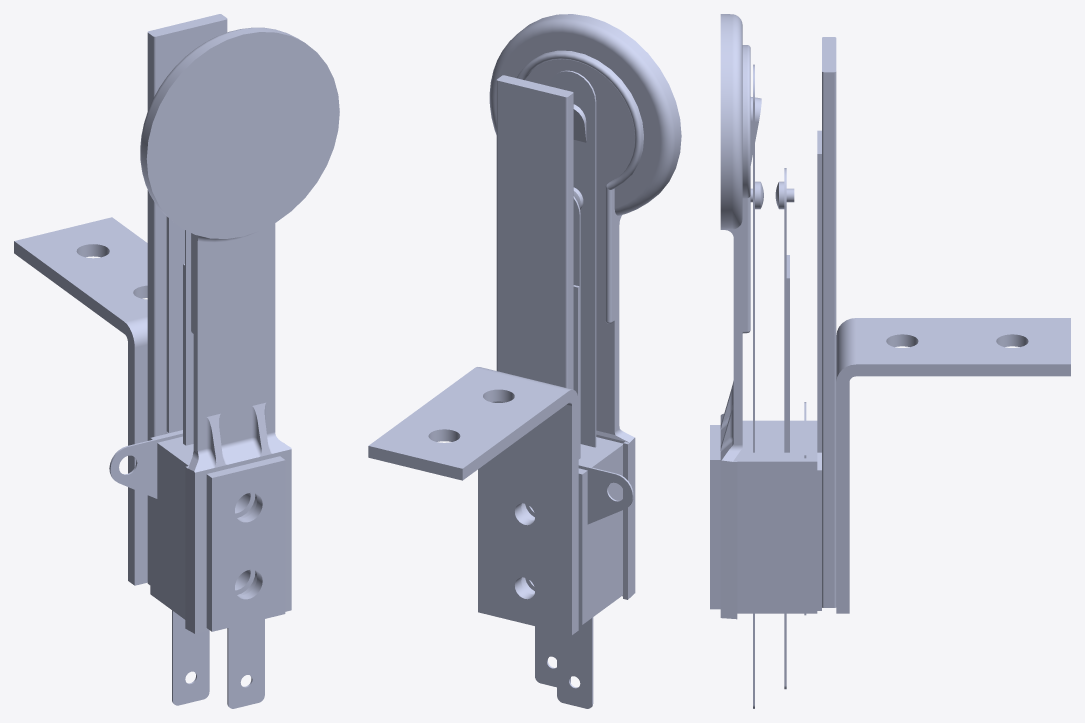
Rendered from Target 002 Round.fbx.
3 renders of one model, left to right at view 1: azimuth 30°, elevation 25°; view 2: azimuth 150°, elevation 25°; view 3: azimuth 270°, elevation 25°, orthographic. The views are drawn at different scales.
Visible parts, largest first — view 1: Target2, Molded Target Switch, Target Mtg Angle 001, Target Washer Plate, Target Backing Bar, switch fish paper 001; view 2: Target Mtg Angle 001, Target2, Target Backing Bar, Molded Target Switch; view 3: Molded Target Switch, Target Mtg Angle 001, Target2, Target Backing Bar, switch fish paper 001, Target Washer Plate.
Boxes of the visible parts, x1,y1,x2,y2 form: Target2: (140, 27, 339, 633); Molded Target Switch: (109, 230, 264, 708); Target Mtg Angle 001: (14, 217, 147, 585); Target Washer Plate: (206, 456, 285, 631); Target Backing Bar: (147, 14, 227, 584); switch fish paper 001: (164, 216, 184, 434); Target Mtg Angle 001: (368, 367, 578, 634); Target2: (489, 14, 681, 599); Target Backing Bar: (496, 75, 573, 594); Molded Target Switch: (525, 70, 633, 708); Molded Target Switch: (734, 64, 817, 708); Target Mtg Angle 001: (836, 318, 1070, 613); Target2: (720, 14, 761, 619); Target Backing Bar: (822, 37, 836, 607); switch fish paper 001: (817, 130, 821, 610); Target Washer Plate: (710, 425, 720, 609).
Size of the model in its own units: 2.5 by 8.52 by 4.17.
